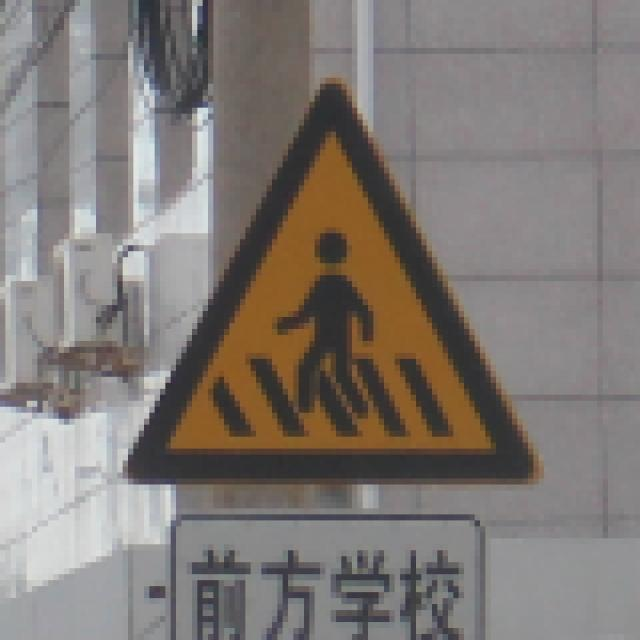Crossing: (124, 71, 559, 501)
